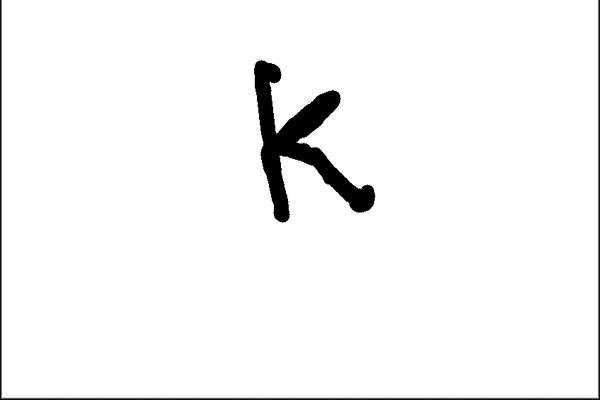K: (244, 53, 381, 220)
